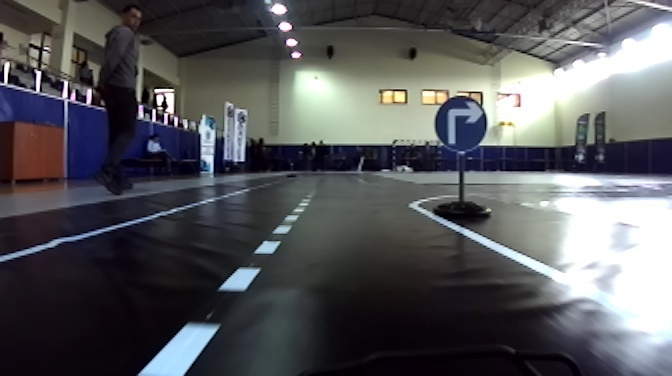saga_donus: (434, 95, 490, 151)
